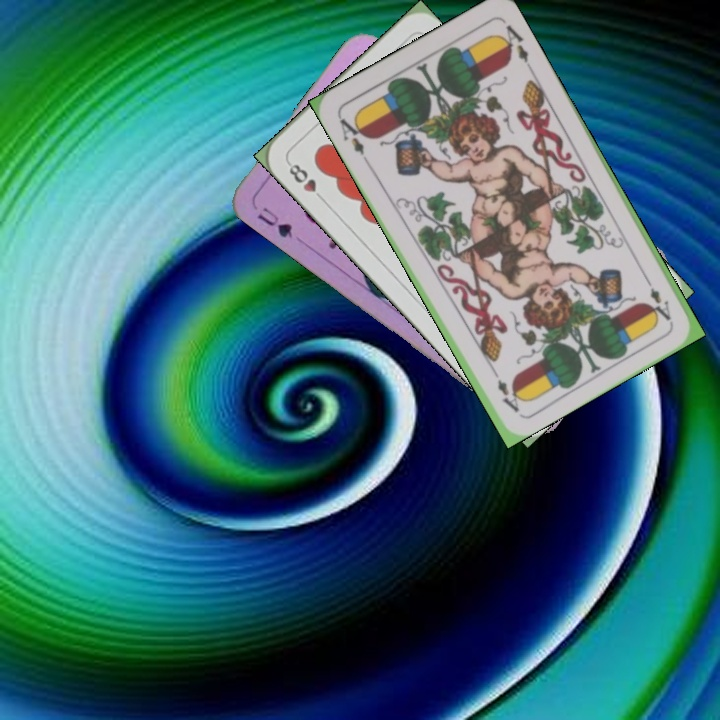EA: (334, 112, 371, 165), (645, 283, 674, 324)
GU: (253, 203, 295, 241)
H8: (283, 159, 328, 205)
